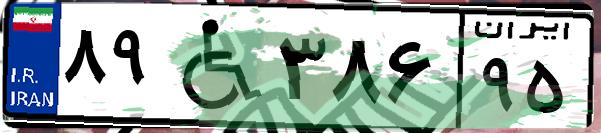3: (270, 28, 330, 110)
5: (525, 38, 570, 115)
6: (385, 28, 445, 110)
8: (330, 28, 385, 110), (57, 26, 110, 100)
9: (475, 38, 525, 113), (110, 28, 158, 98)
ژ (معلولین و جانبازان): (158, 12, 270, 120)
